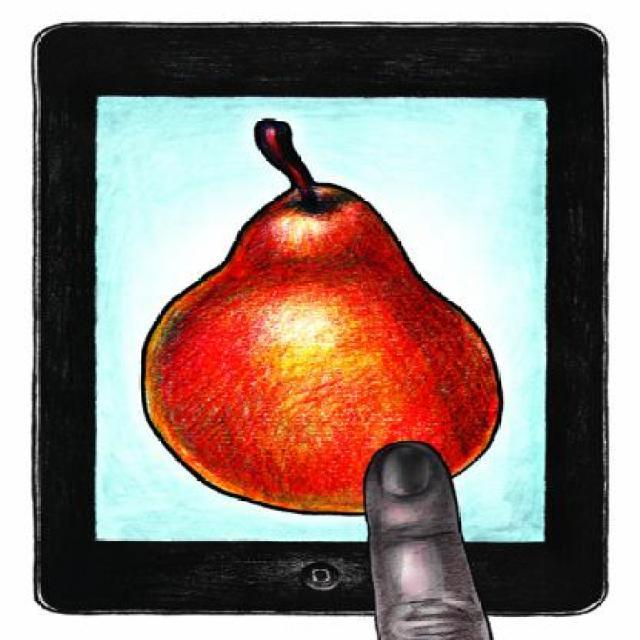Pear: (139, 177, 507, 515)
